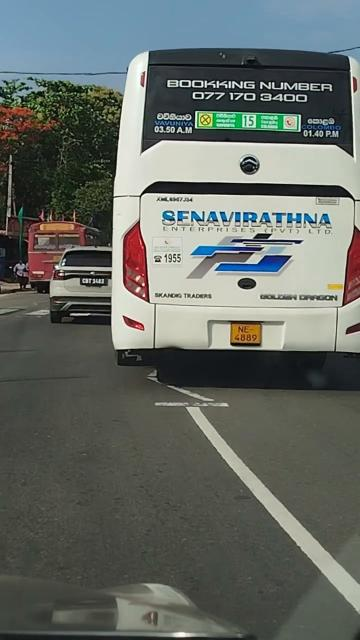illegal overtaking: (124, 45, 360, 395)
number plate: (224, 324, 274, 350)
